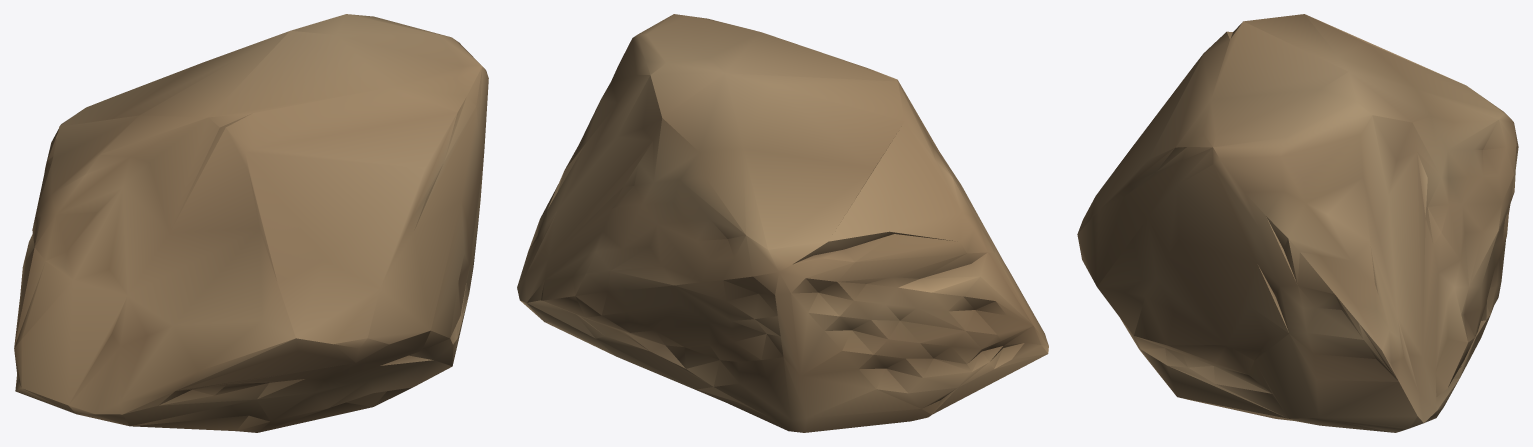
The model's file is rock.boulder_layered.tan.glb.
The picture shows the model from 3 angles, left to right: view 1: azimuth 30°, elevation 25°; view 2: azimuth 150°, elevation 25°; view 3: azimuth 270°, elevation 25°; orthographic projection. The views are drawn at different scales.
Visible parts, largest first — view 1: rock_boulder_layered_tan; view 2: rock_boulder_layered_tan; view 3: rock_boulder_layered_tan.
Part boxes in pixels (x1=…): rock_boulder_layered_tan: x1=14, y1=14, x2=488, y2=432; rock_boulder_layered_tan: x1=517, y1=14, x2=1048, y2=432; rock_boulder_layered_tan: x1=1077, y1=14, x2=1518, y2=432.
Size of what is drawn, in the model's own units: 2.2 by 1.35 by 1.68.
